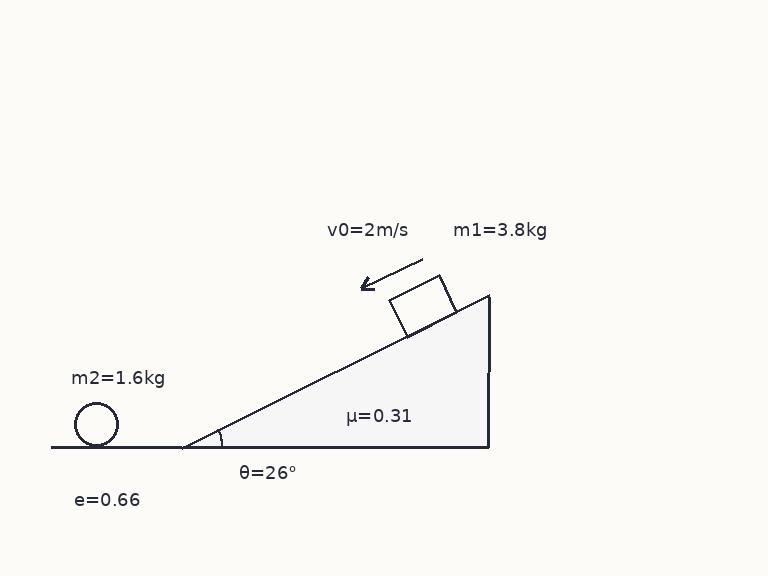ball: (72, 400, 120, 448)
block: (387, 273, 459, 338)
ramp: (180, 295, 490, 448)
